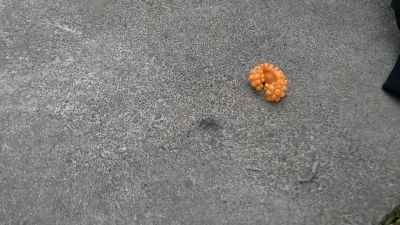eggs: (245, 62, 290, 105)
